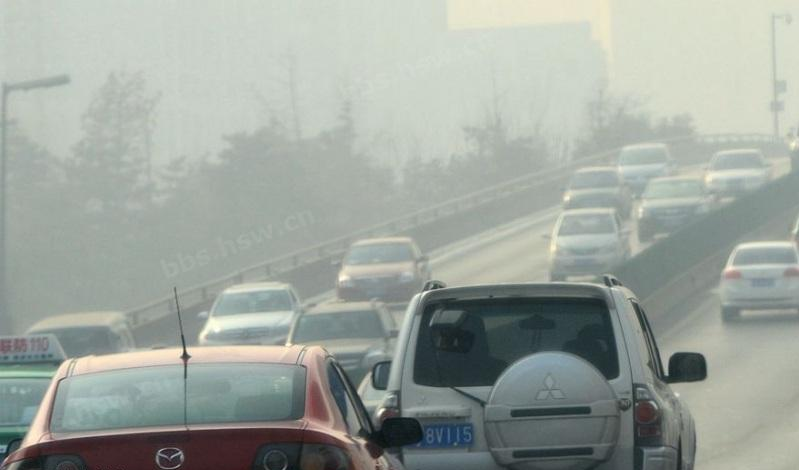car: (371, 274, 710, 470), (1, 346, 426, 470), (1, 333, 85, 470), (283, 296, 405, 390), (22, 306, 149, 394), (194, 280, 317, 357), (329, 235, 431, 306), (540, 207, 633, 283), (719, 237, 799, 325), (631, 173, 719, 243), (558, 164, 632, 220), (701, 149, 775, 200), (614, 143, 680, 192)
